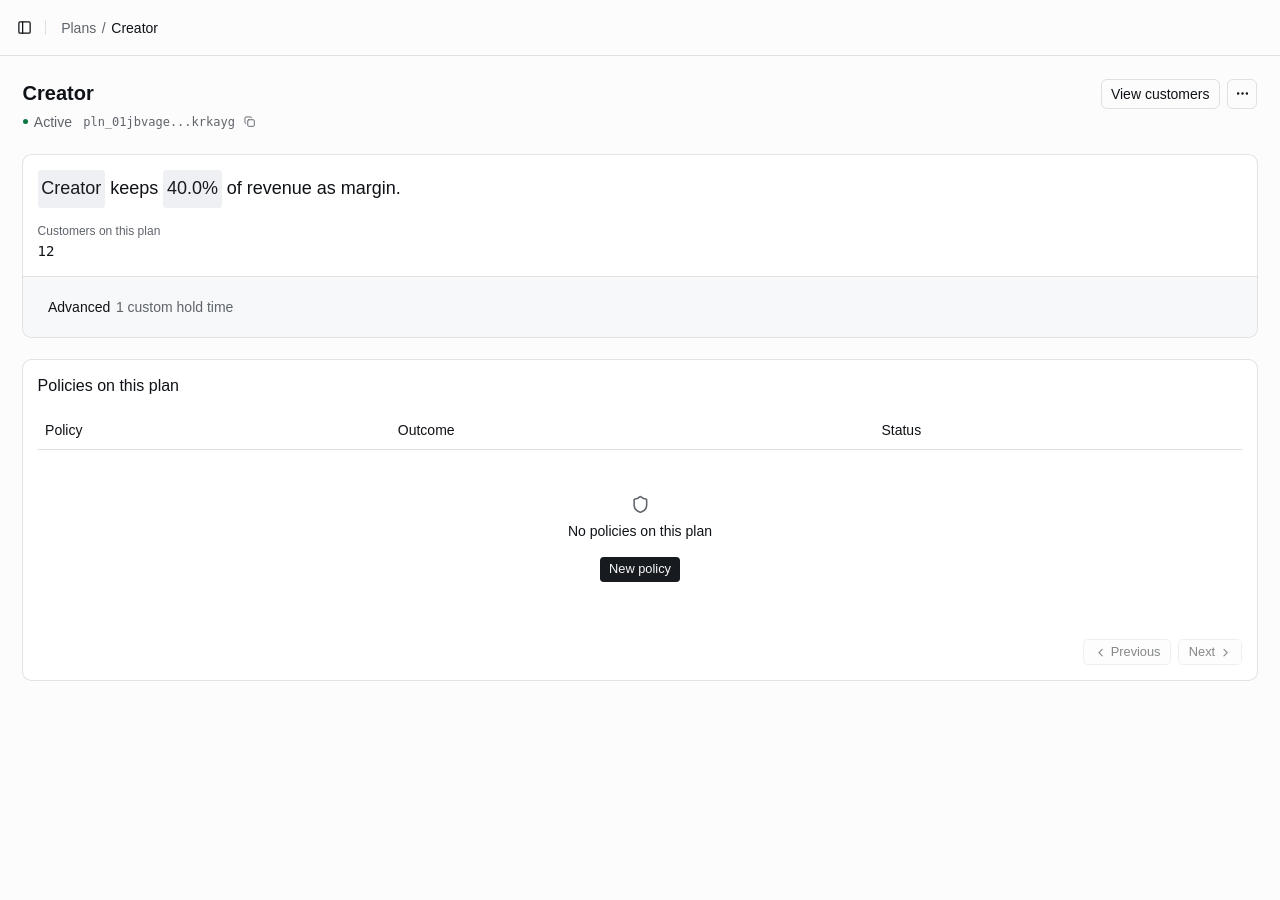
Test: switching to fixed allowance sends the allowance and keeps the target margin
Check: the heading "Creator" is shown, box left=22, top=82, right=94, bottom=104
Click the button "40.0%" at (192, 189), box left=163, top=170, right=222, bottom=208
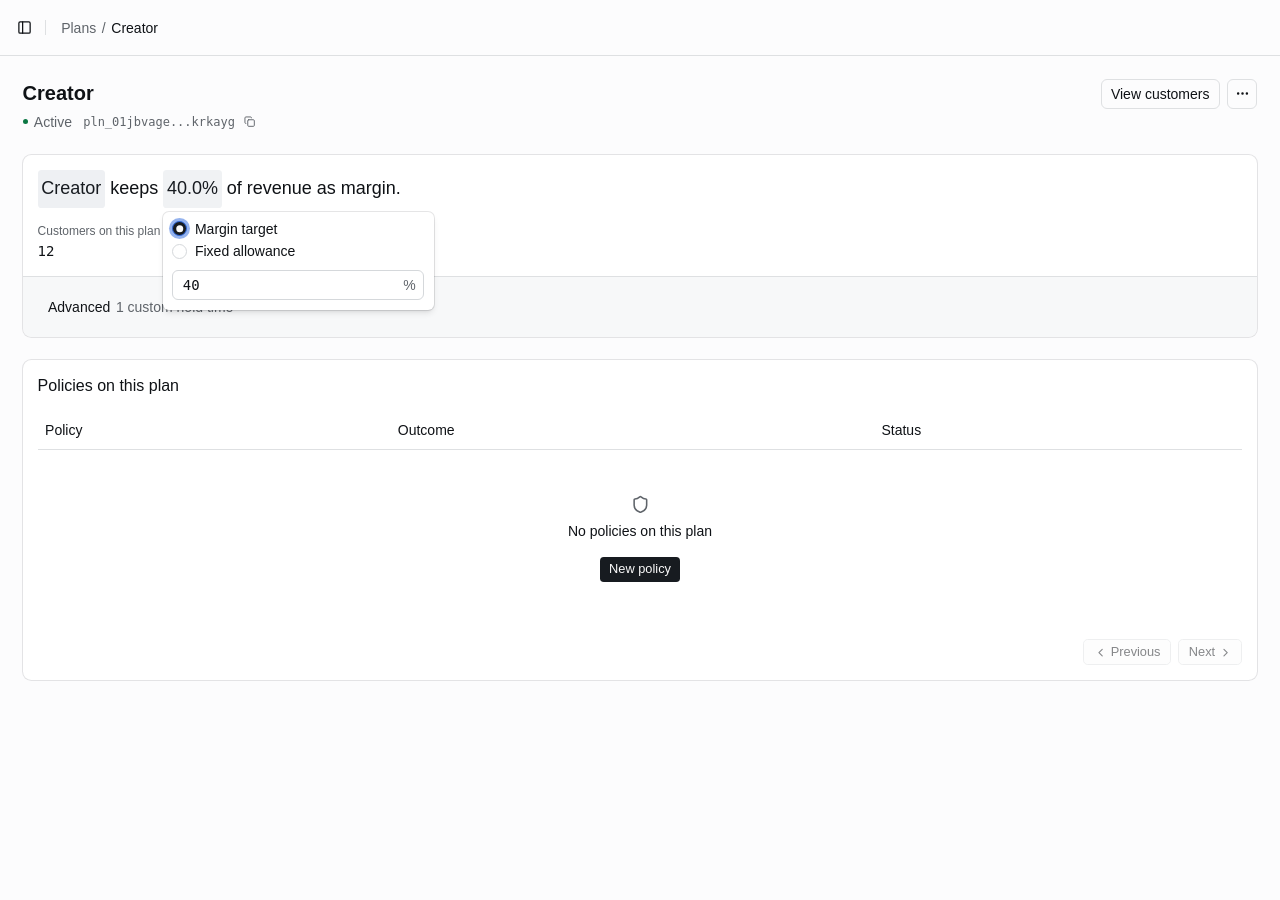
Click the radio button named "Fixed allowance" next to "Fixed allowance" at (180, 251), box left=172, top=244, right=187, bottom=259
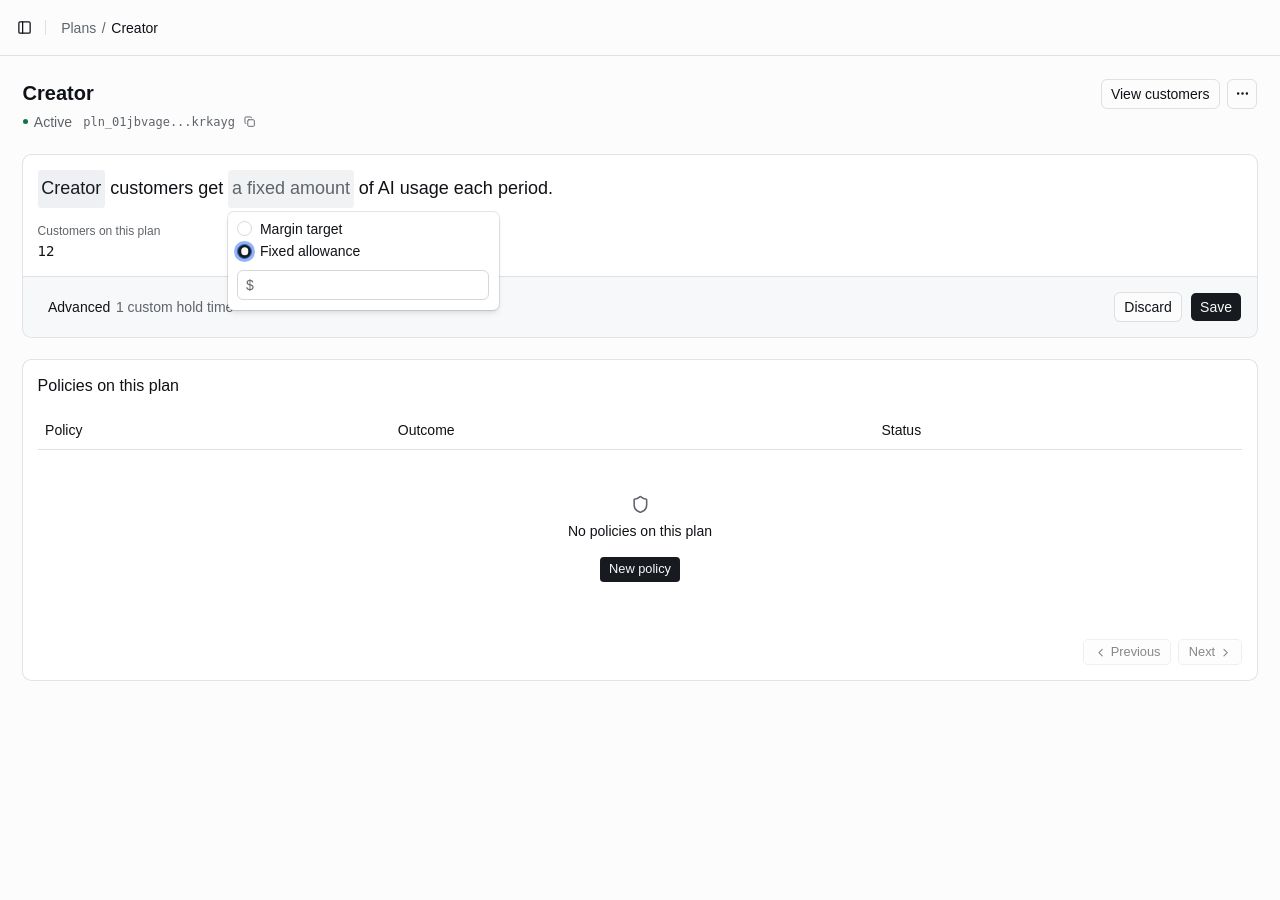
Type "2" into the field named "Allowance" at (371, 285), box left=254, top=270, right=488, bottom=300
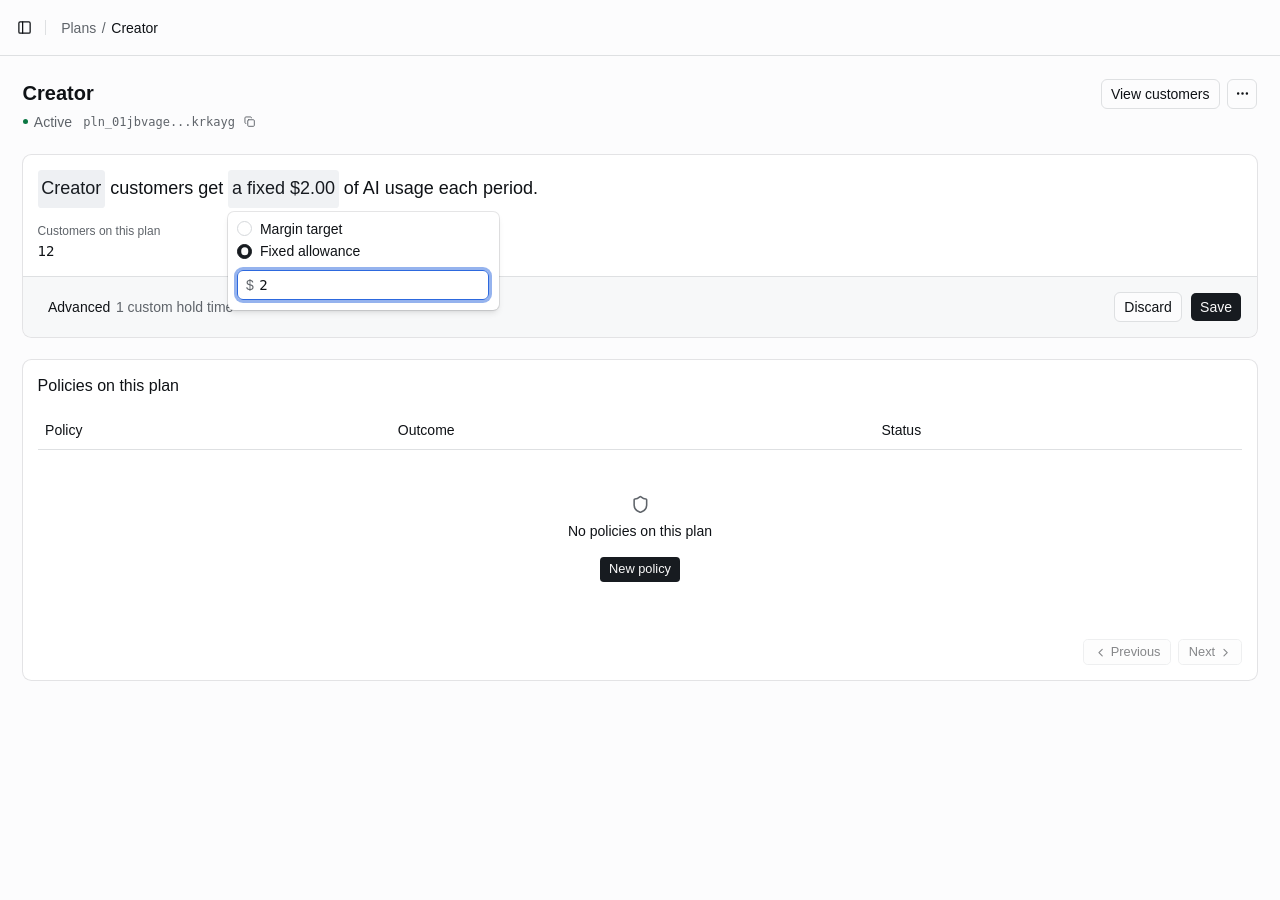
Press Escape
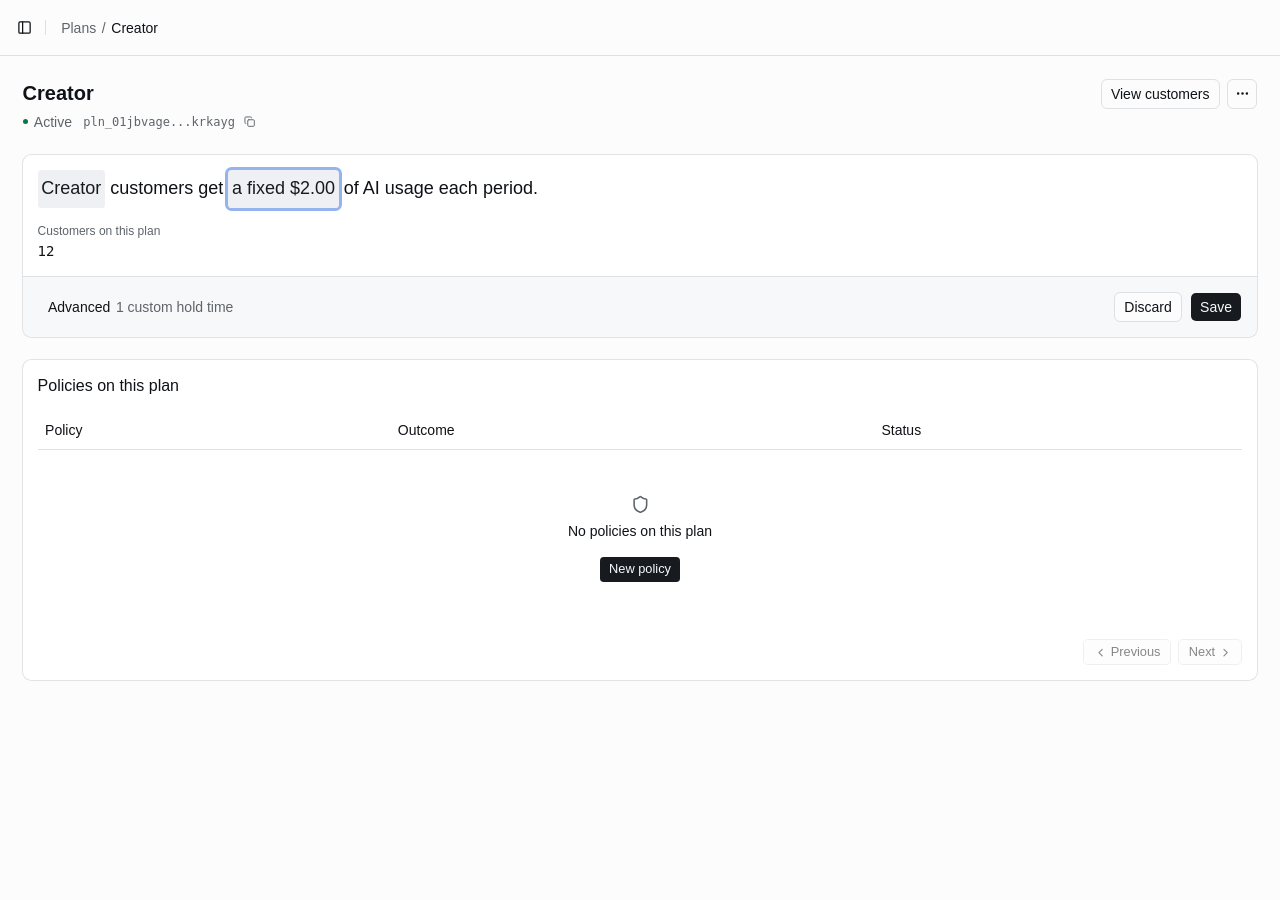
Check: the element showing "Creator customers get a fixed $2.00 of AI usage each period." is shown, box left=38, top=170, right=538, bottom=208
Click the button "Save" at (1216, 307), box left=1190, top=292, right=1242, bottom=322
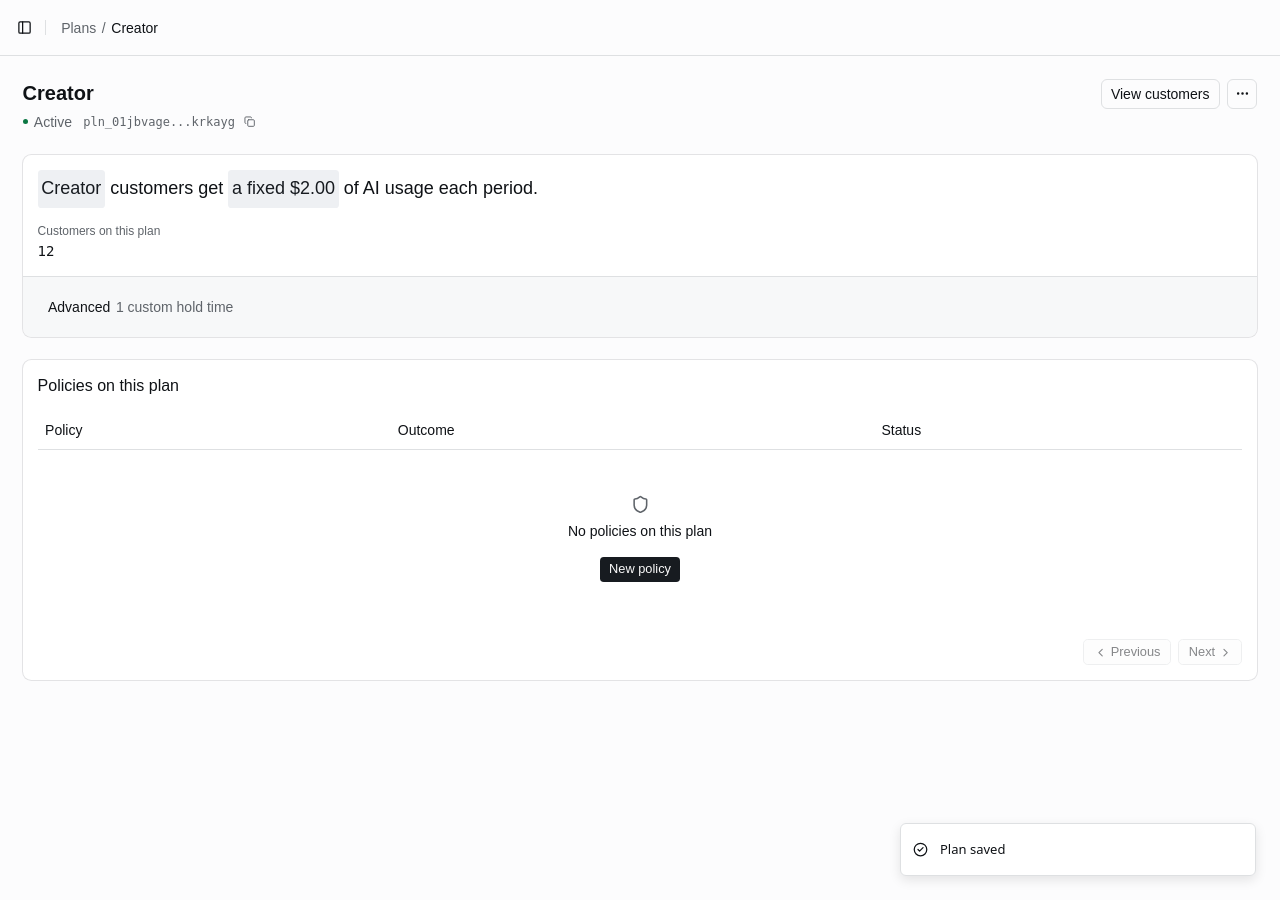
Check: the text "Plan saved" is shown, box left=940, top=840, right=1005, bottom=859
